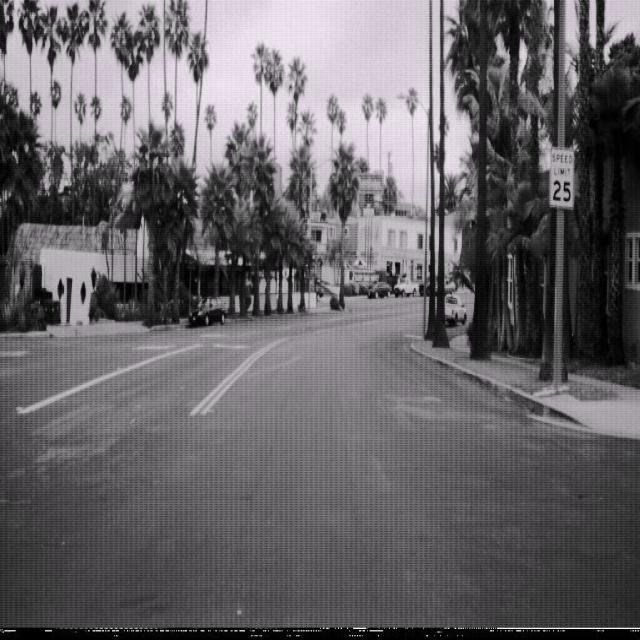speedLimit25: (549, 146, 574, 210)
